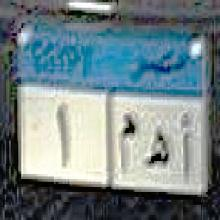1: (52, 102, 72, 173)
alif: (177, 110, 193, 186)
haa: (145, 123, 171, 168)
meem: (117, 109, 138, 169)
